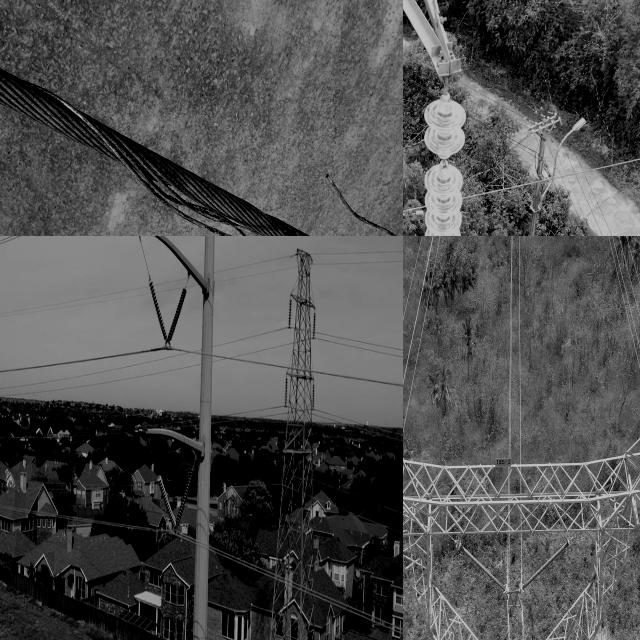杆塔: (403, 381, 640, 640), (254, 242, 322, 640)
正常电缆: (403, 152, 640, 225)
正常绝缘子: (418, 80, 472, 236), (454, 535, 509, 597), (165, 461, 201, 551), (519, 536, 573, 595), (141, 264, 173, 355), (151, 459, 184, 545), (158, 278, 191, 361), (285, 294, 295, 332), (282, 372, 290, 410), (310, 306, 318, 342), (310, 378, 317, 412)
电缆破损: (115, 49, 403, 236)
绝缘子破损: (437, 157, 450, 168)
